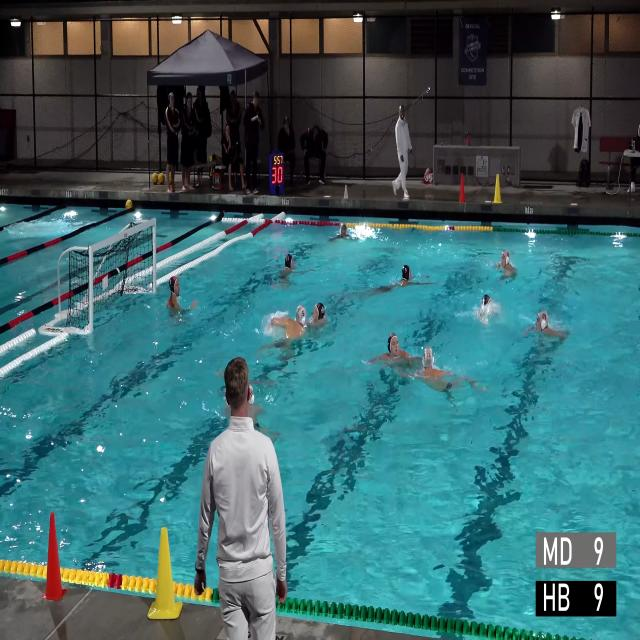ball: (158, 172, 165, 185), (125, 199, 133, 210), (152, 172, 158, 185)
